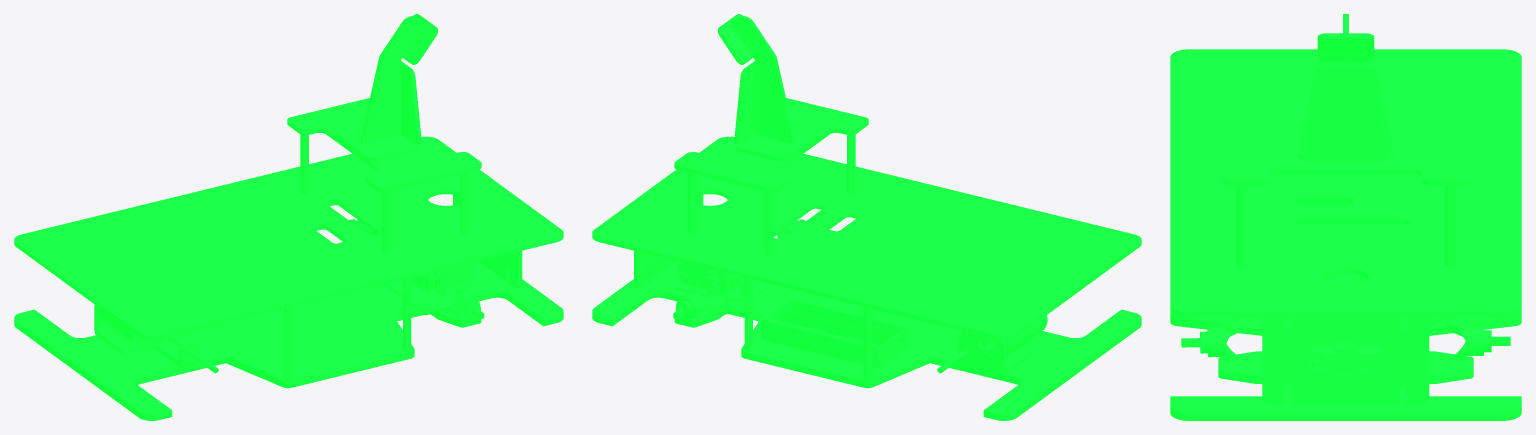
Rendered from ROSCAR2_BASE.dae.
The picture shows the model from 3 angles, left to right: view 1: azimuth 30°, elevation 25°; view 2: azimuth 150°, elevation 25°; view 3: azimuth 270°, elevation 25°; orthographic projection. The views are drawn at different scales.
Visible parts, largest first — view 1: CATIA STL; view 2: CATIA STL; view 3: CATIA STL.
Part boxes in pixels (bbox=[...]): CATIA STL: bbox=[14, 14, 563, 420]; CATIA STL: bbox=[592, 14, 1141, 420]; CATIA STL: bbox=[1170, 14, 1521, 420].
Size of the model in its own units: 328 by 185 by 204.
